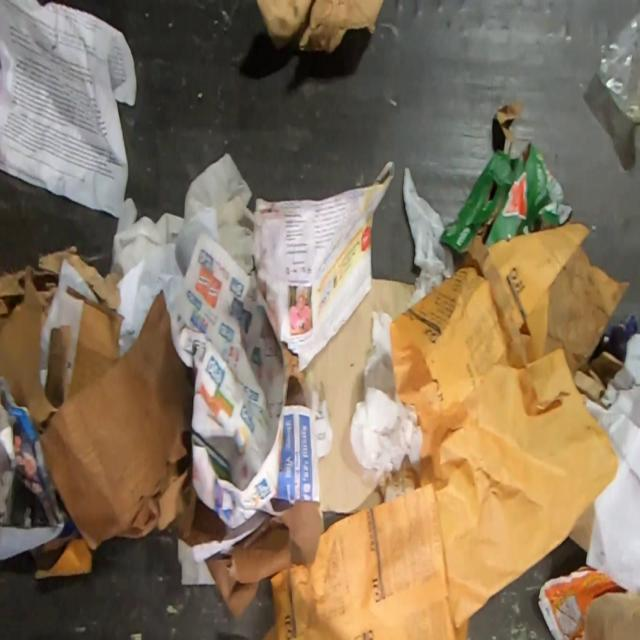cardboard: (39, 288, 228, 551), (314, 277, 416, 537), (0, 257, 126, 435), (436, 96, 574, 255), (203, 499, 321, 620), (544, 244, 631, 377), (253, 0, 386, 54), (574, 351, 625, 409), (567, 500, 594, 553)
rigid_plastic: (598, 6, 640, 127)
